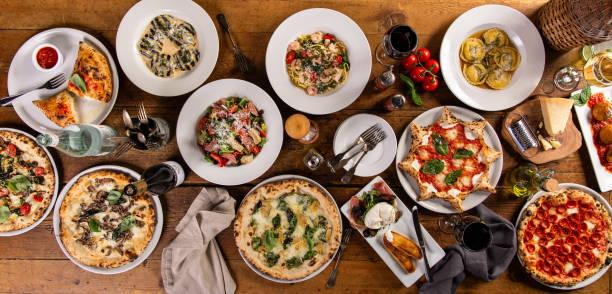Braised Crucian Carp: (7, 26, 119, 135), (262, 6, 373, 114), (234, 175, 342, 285), (439, 3, 546, 112), (396, 105, 502, 213), (178, 77, 284, 185), (55, 168, 164, 271), (513, 185, 611, 290), (119, 0, 219, 94), (0, 122, 57, 247)
